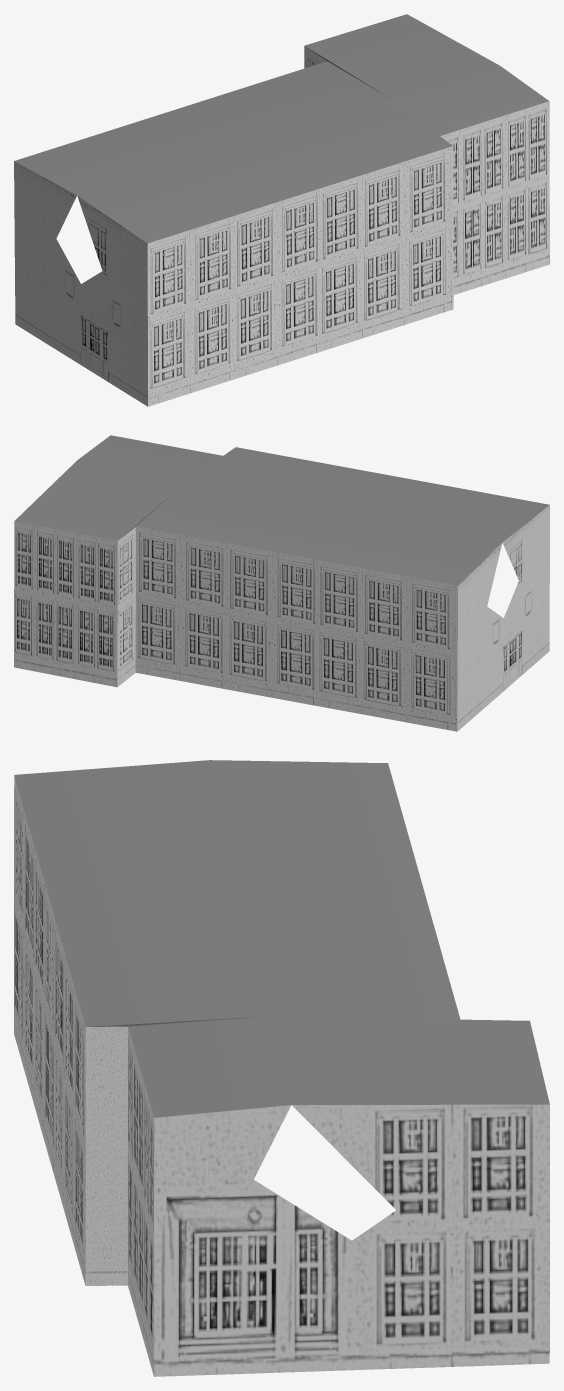
File: Neuffer-Bau.gltf
The picture shows the model from 3 angles, top to bottom: view 1: azimuth 30°, elevation 25°; view 2: azimuth 150°, elevation 25°; view 3: azimuth 270°, elevation 25°; orthographic projection. The views are drawn at different scales.
Visible parts, largest first — view 1: Dach.1; view 2: Dach.1; view 3: Dach.1.
Part boxes in pixels (x1,y1,x2,y2): Dach.1: [14, 14, 549, 406]; Dach.1: [14, 435, 549, 731]; Dach.1: [14, 760, 549, 1376].
Bounding box in the file's own units: 37.29 × 13.1 × 23.66.
Materials: 8 (7 with a texture image).
